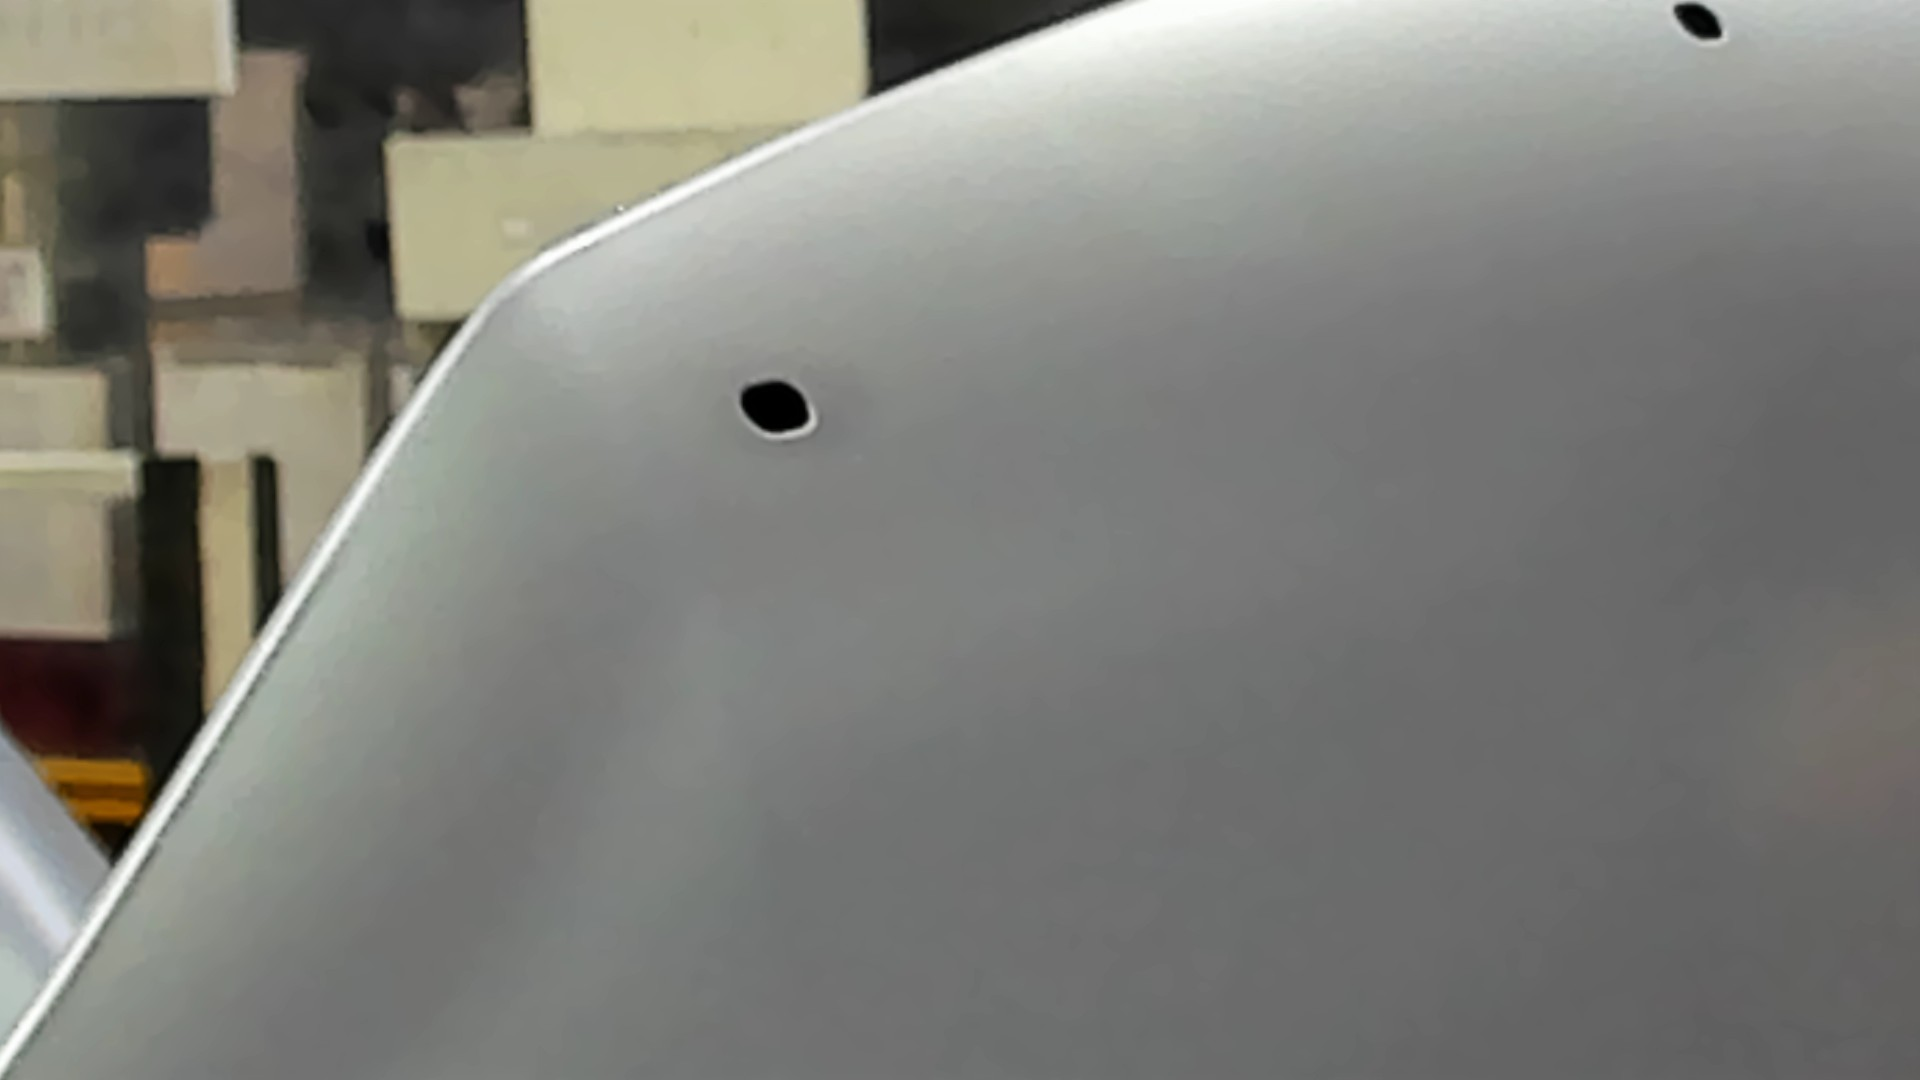amorfo: (735, 376, 818, 444), (1665, 1, 1734, 50)
capo: (938, 102, 1920, 1080)
